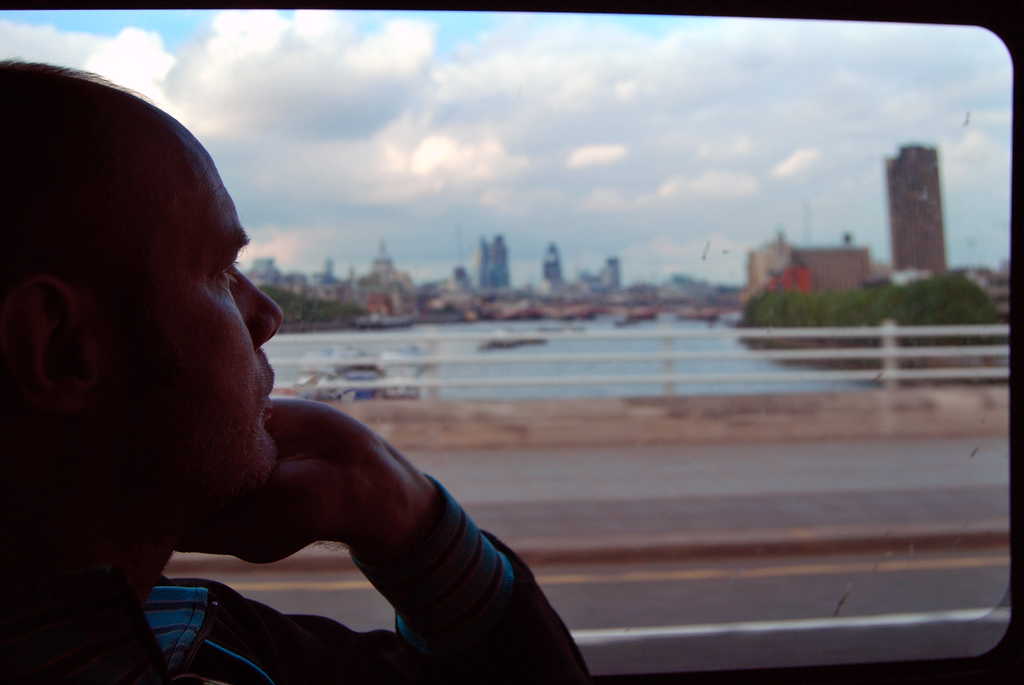Human_hand: (239, 402, 439, 565)
